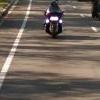Motorcycle: (39, 2, 70, 44)
